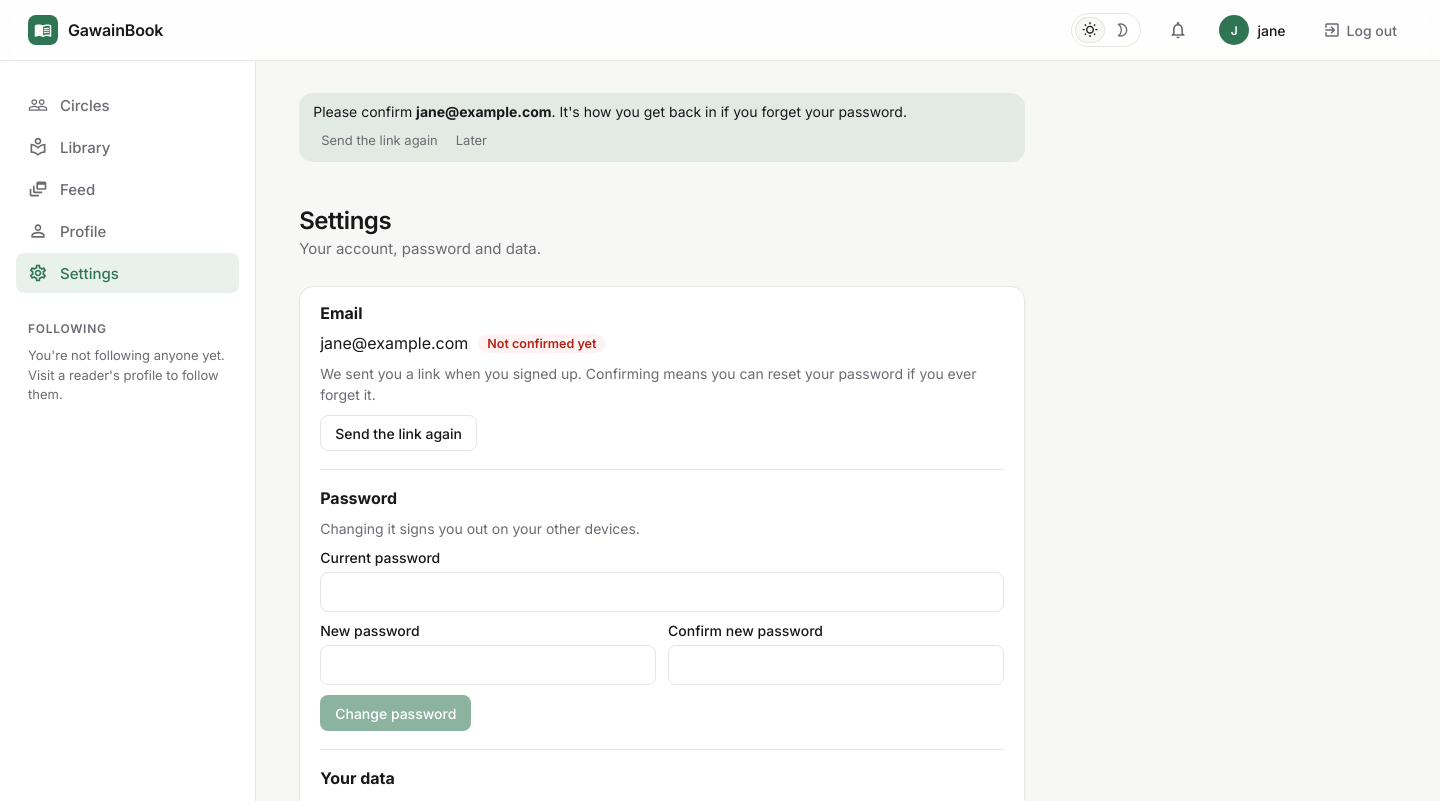
Test case: email › resend errors (cooldown) are shown
What coordinates should you click on to do the following:
click the button "Send the link again" below "Not confirmed yet"
I would click on:
 (399, 433)
Its box is [320,415,477,451].
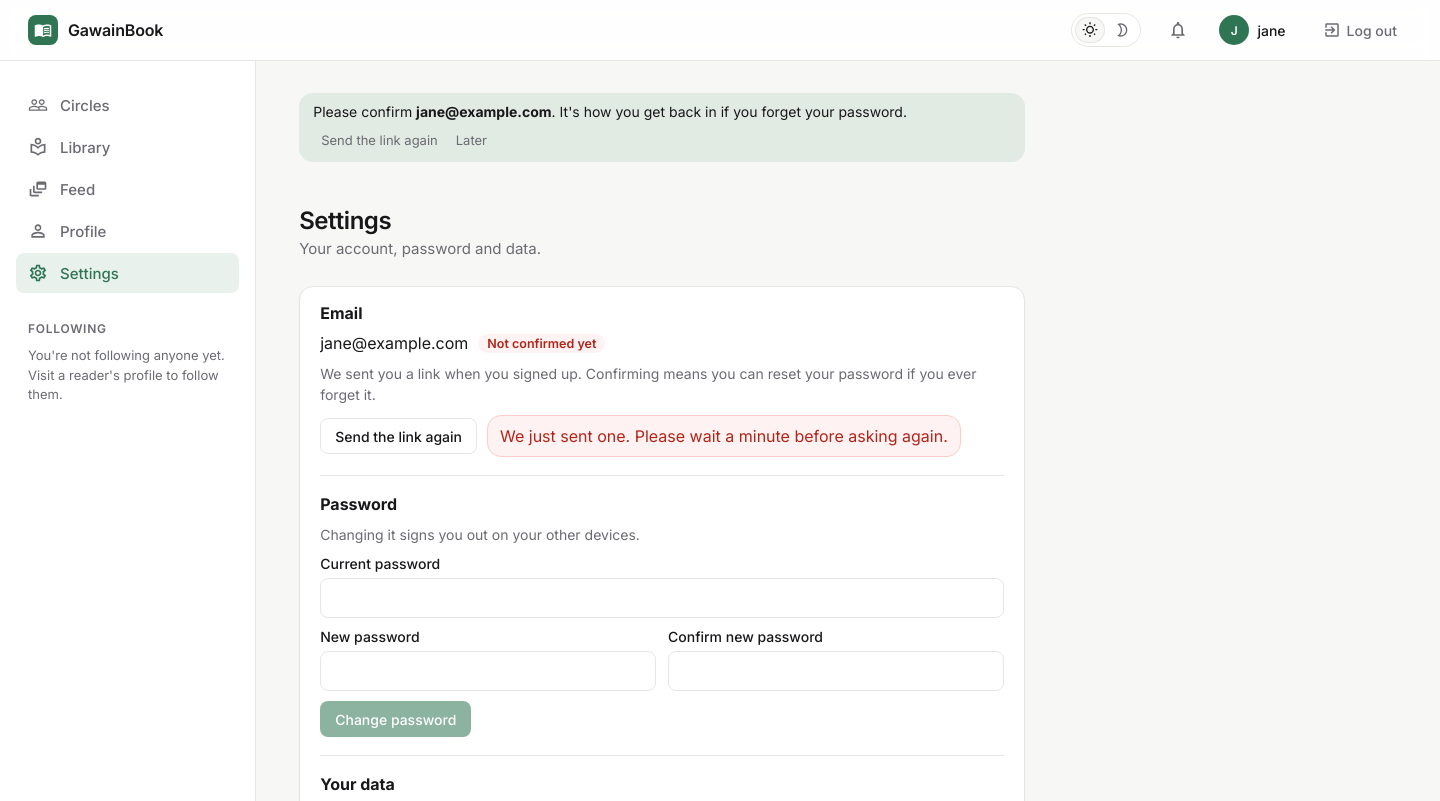
Result: the message shows "wait a minute" at [500,426,948,446]
